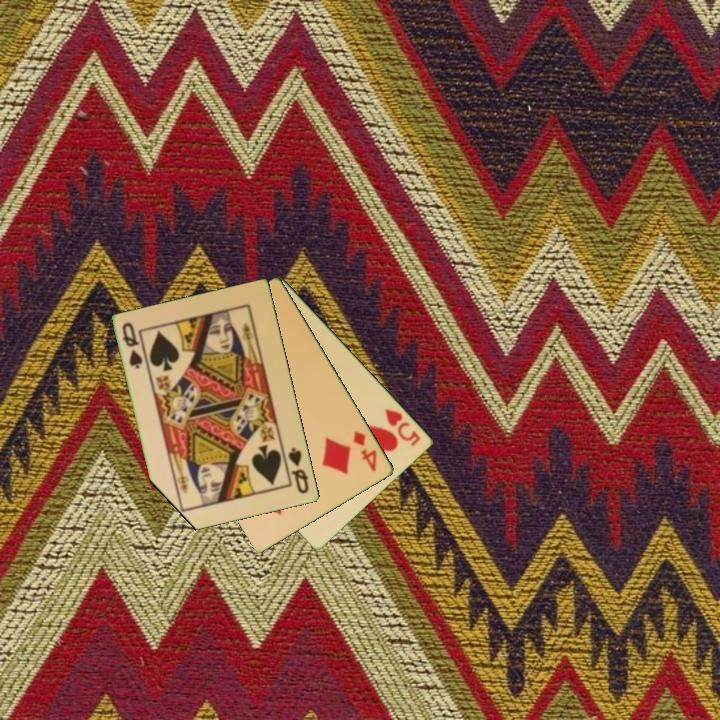4d: (350, 427, 380, 475)
5h: (382, 405, 424, 449)
Qs: (285, 444, 312, 497), (119, 319, 146, 372)
